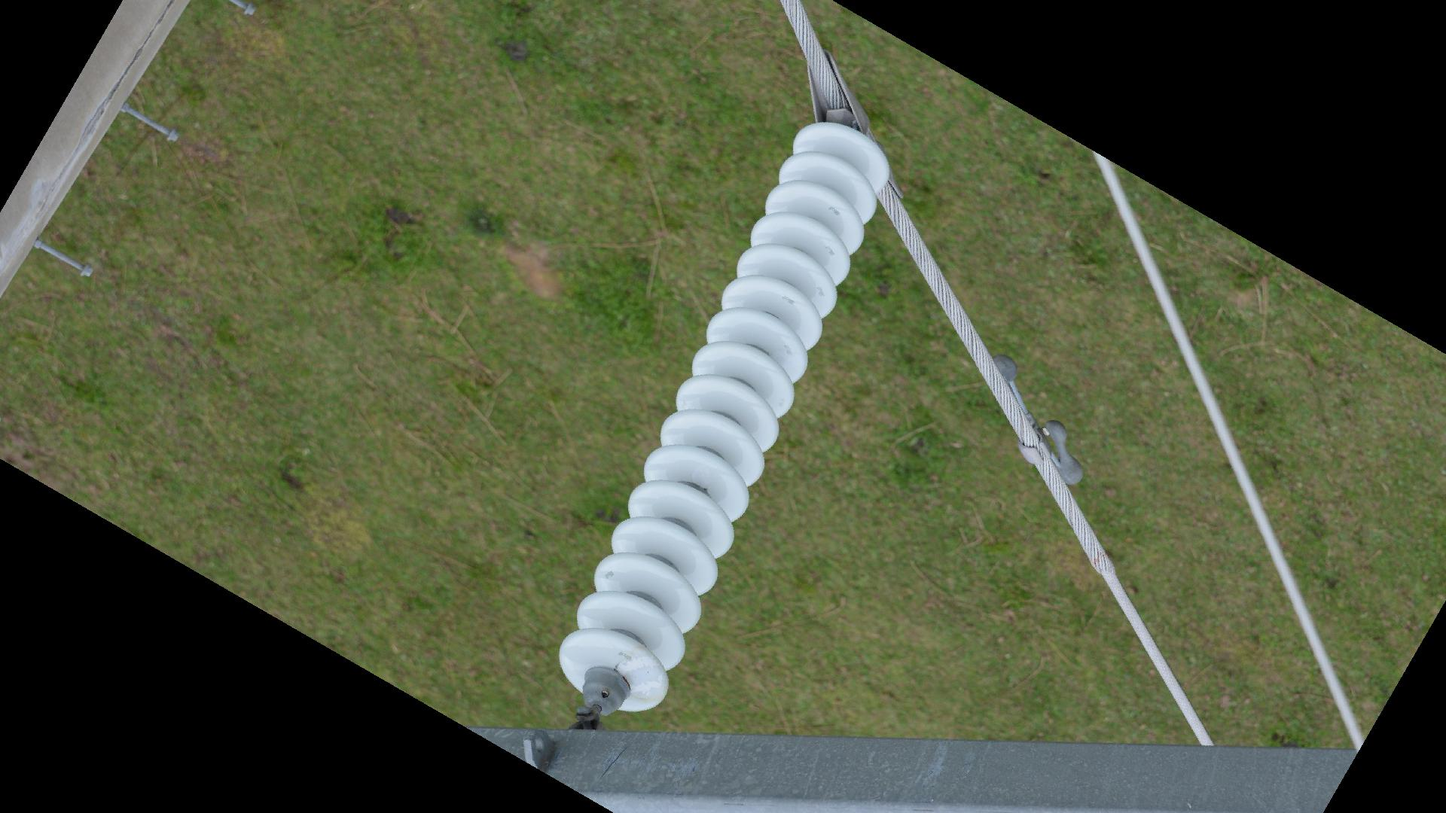insulator: (556, 114, 898, 717)
insulator_flashover: (621, 659, 667, 695)
